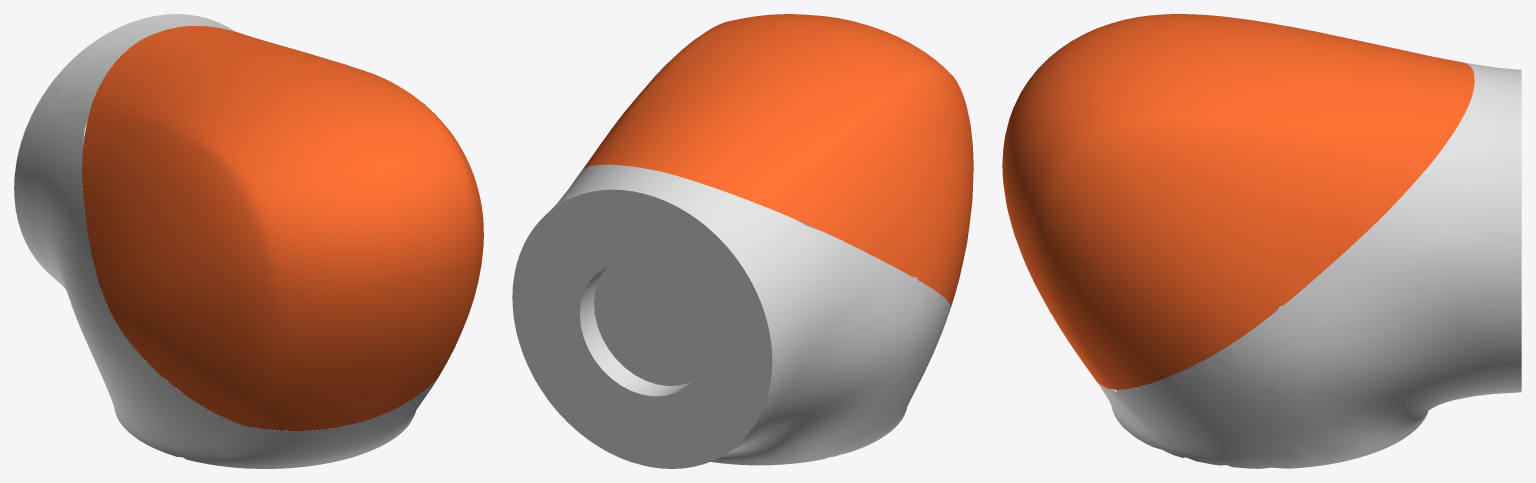
The model's file is v_kuka_link_6.dae.
The picture shows the model from 3 angles, left to right: view 1: azimuth 30°, elevation 25°; view 2: azimuth 150°, elevation 25°; view 3: azimuth 270°, elevation 25°; orthographic projection. The views are drawn at different scales.
Visible parts, largest first — view 1: link_6; view 2: link_6; view 3: link_6.
Part boxes in pixels (<box>): link_6: <box>14,14,483,468</box>; link_6: <box>512,14,973,468</box>; link_6: <box>1002,14,1521,468</box>.
Size of the model in its own units: 0.1323 by 0.1674 by 0.1376.
1 material, 1 textured.
